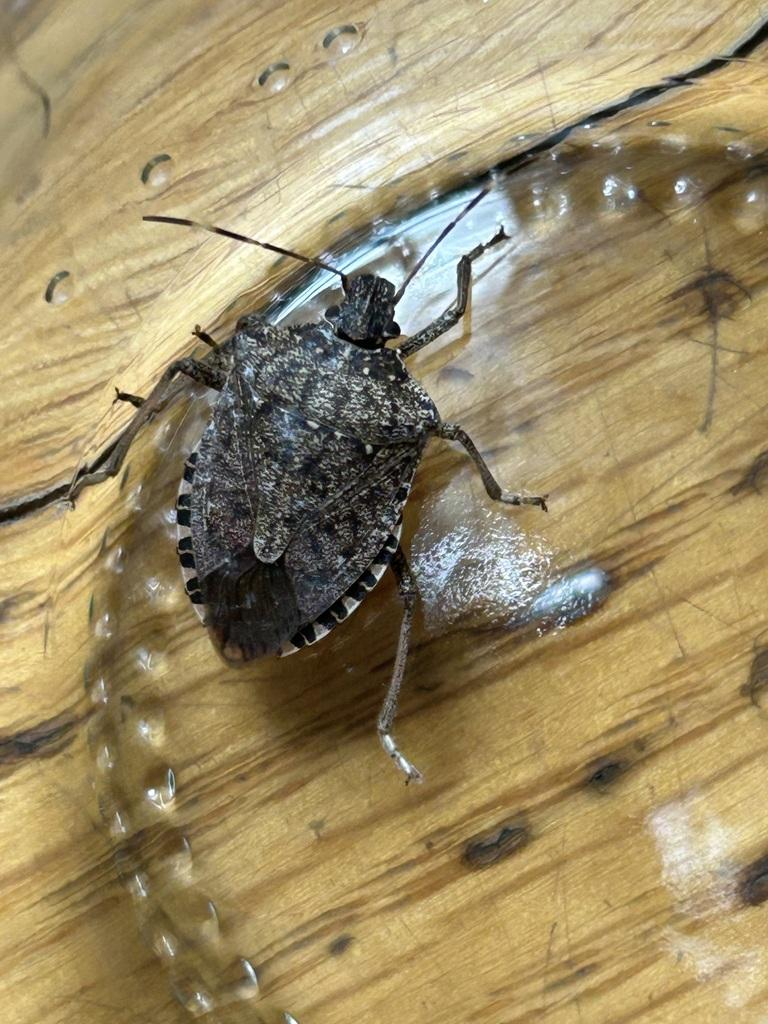stink_bugs: (0, 127, 729, 830)
